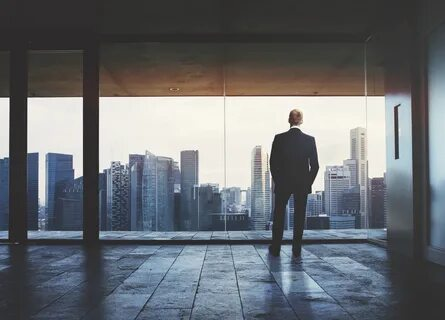awake: (268, 108, 320, 256)
